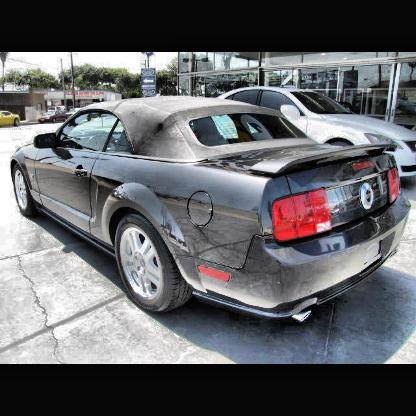Ford Mustang Convertible 2007: (12, 96, 411, 322)
